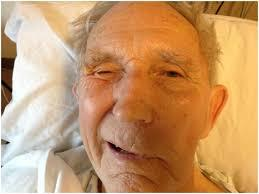strokeEyeSevere: (89, 46, 192, 89)
strokeMouthSevere: (100, 134, 173, 171)
